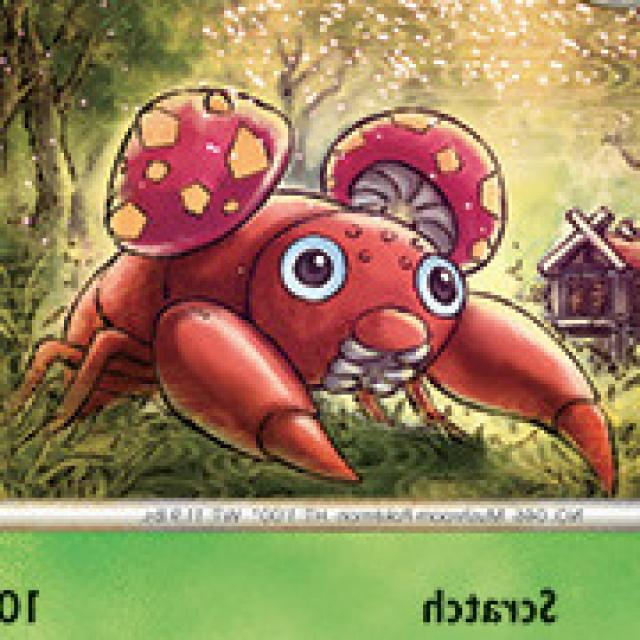Paras: (82, 91, 506, 464)
